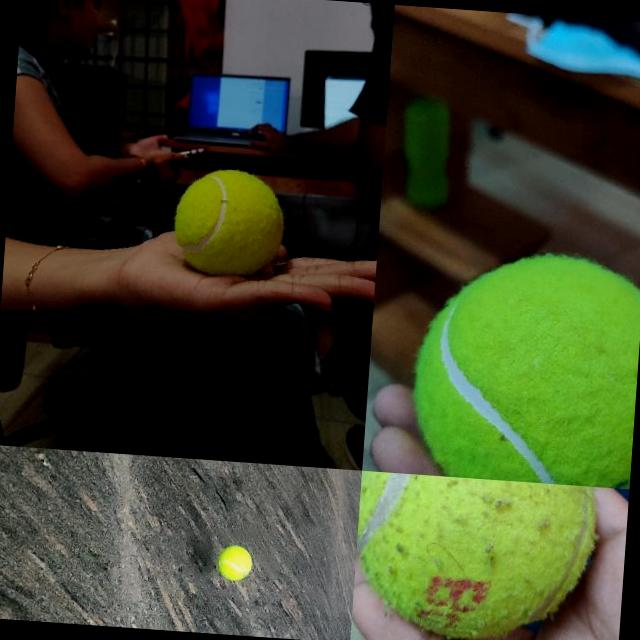Tennis Ball: (410, 247, 640, 488), (351, 470, 598, 640), (172, 166, 287, 276), (216, 544, 253, 582)
